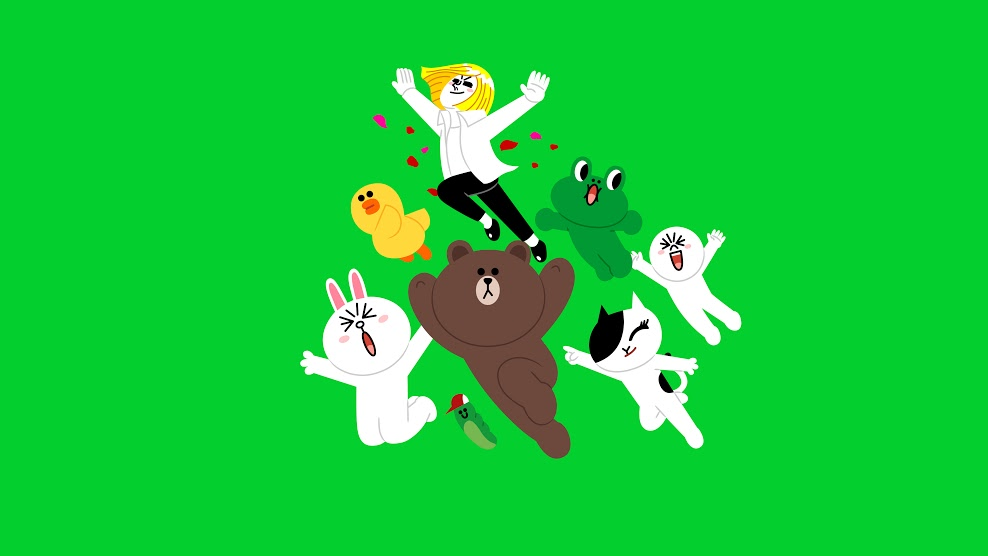line_brown: (419, 234, 558, 352)
